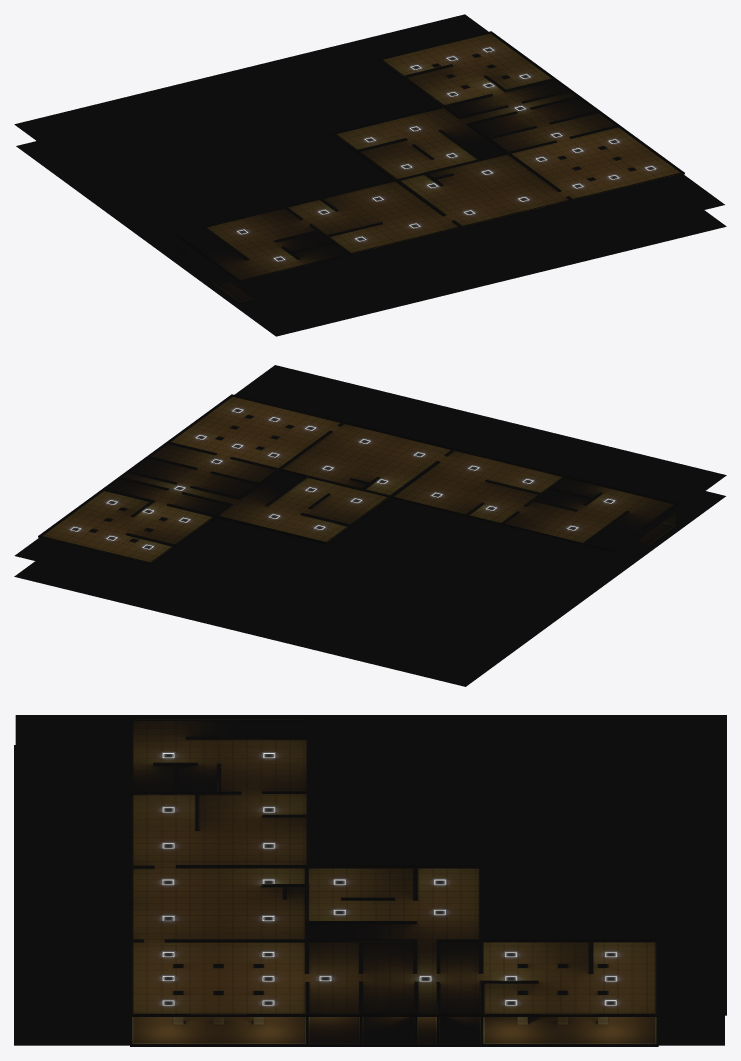
The model's file is backrooms_another_level.glb.
3 renders of one model, top to bottom at view 1: azimuth 30°, elevation 25°; view 2: azimuth 150°, elevation 25°; view 3: azimuth 270°, elevation 25°, orthographic. The views are drawn at different scales.
Visible parts, largest first — view 1: Roof2.002_8, carpetSquare.001_1, skirtings.002_9, outerWalls.002_10, lights.003_6; view 2: Roof2.002_8, carpetSquare.001_1, skirtings.002_9, outerWalls.002_10, lights.003_6; view 3: Roof2.002_8, carpetSquare.001_1, skirtings.002_9, outerWalls.002_10, lights.003_6, Columns.001_2.
Part boxes in pixels (bbox=[...]): Roof2.002_8: bbox=[14, 14, 724, 314]; carpetSquare.001_1: bbox=[16, 141, 726, 336]; skirtings.002_9: bbox=[174, 31, 684, 303]; outerWalls.002_10: bbox=[175, 32, 682, 259]; lights.003_6: bbox=[236, 46, 657, 261]; Roof2.002_8: bbox=[14, 365, 726, 665]; carpetSquare.001_1: bbox=[14, 491, 725, 686]; skirtings.002_9: bbox=[38, 394, 677, 573]; outerWalls.002_10: bbox=[40, 395, 676, 546]; lights.003_6: bbox=[69, 407, 615, 549]; Roof2.002_8: bbox=[15, 715, 726, 1015]; carpetSquare.001_1: bbox=[14, 745, 724, 1045]; skirtings.002_9: bbox=[130, 718, 658, 1046]; outerWalls.002_10: bbox=[130, 719, 656, 1043]; lights.003_6: bbox=[161, 752, 617, 1005]; Columns.001_2: bbox=[173, 963, 608, 1024].
Bounding box in the file's own units: 62.25 × 3.07 × 62.2.
Materials: 9 (7 with a texture image).
